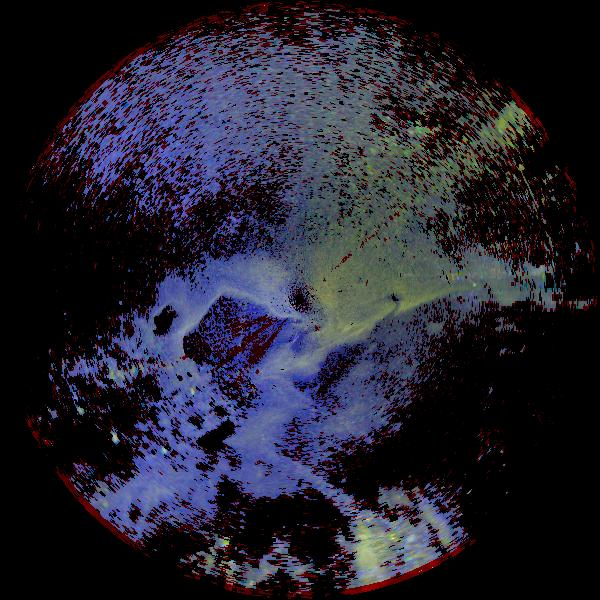roost: (106, 373, 118, 385), (111, 434, 120, 443), (162, 448, 168, 454)
